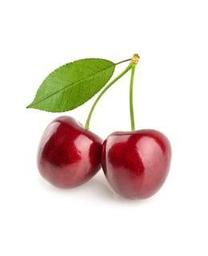cherry: (37, 115, 108, 190), (102, 129, 172, 199)
